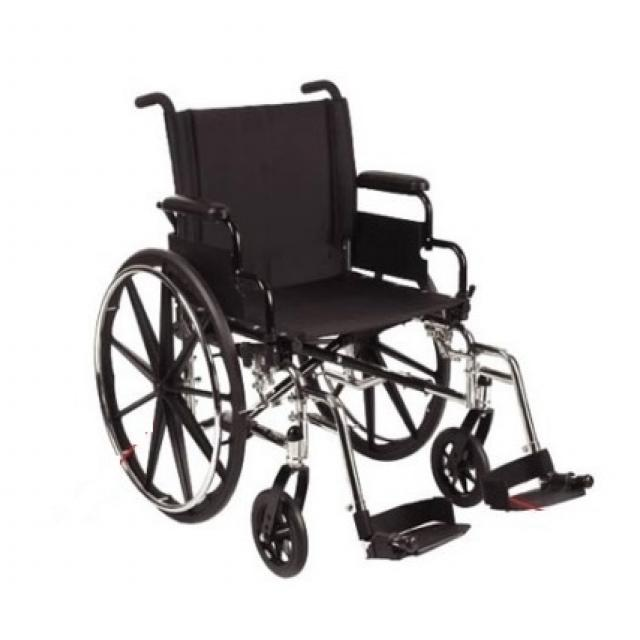wheelchair: (79, 65, 615, 587)
